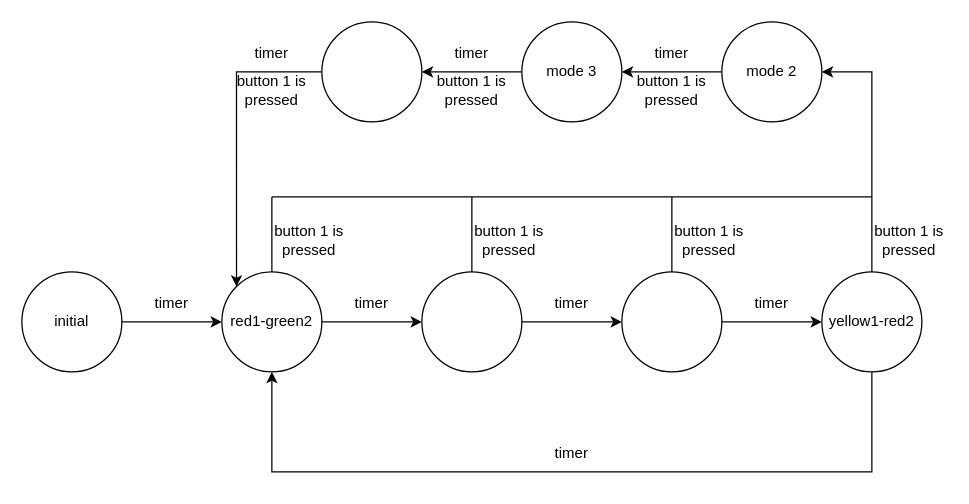
Some shapes in this 969 by 504 pixel diagram are drawn without their labels. Each missing label, with the centre of its shape:
green1-red2: [671,321]
mode 4: [371,71]
red1-yellow2: [471,321]
